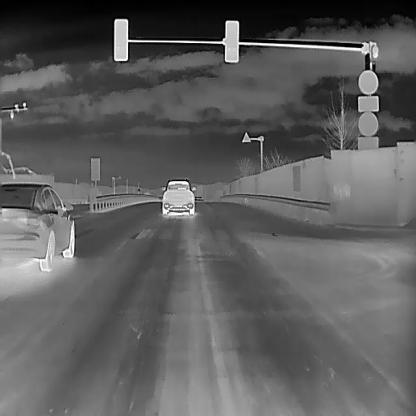car: (0, 180, 74, 271), (161, 177, 197, 215)
